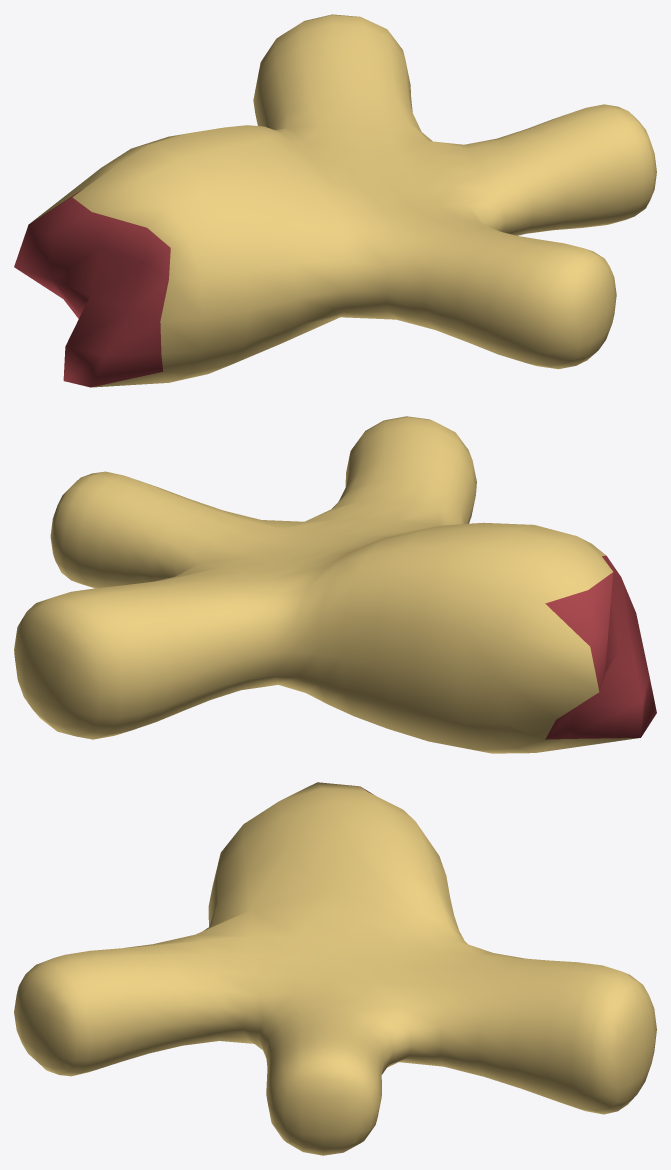
File: Hand_Dism.fbx
The picture shows the model from 3 angles, top to bottom: view 1: azimuth 30°, elevation 25°; view 2: azimuth 150°, elevation 25°; view 3: azimuth 270°, elevation 25°; orthographic projection. The views are drawn at different scales.
Visible parts, largest first — view 1: Hand_L.001; view 2: Hand_L.001; view 3: Hand_L.001.
Boxes of the visible parts, x1,y1,x2,y2 form: Hand_L.001: (14,14,656,387); Hand_L.001: (14,416,656,753); Hand_L.001: (14,782,656,1155).
Bounding box in the file's own units: 81.45 × 27.84 × 81.07.
